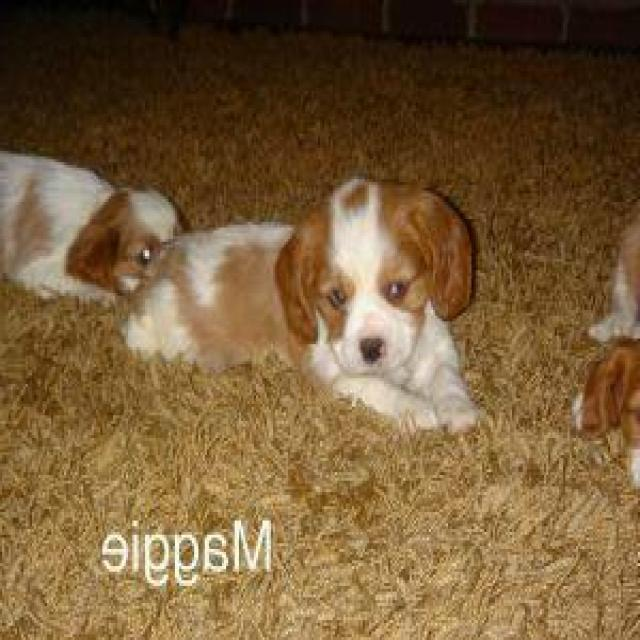blenheim_spaniel: (119, 174, 493, 438), (2, 150, 192, 316), (572, 221, 640, 500)
